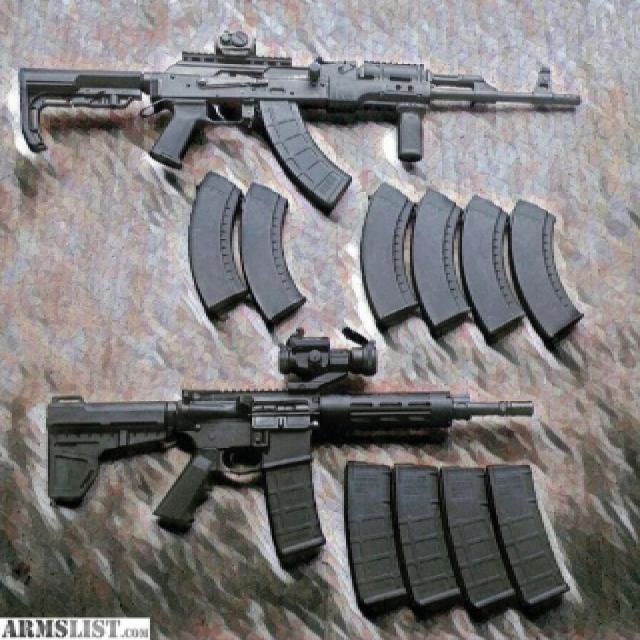weapon: (10, 347, 536, 559), (12, 32, 584, 210)
